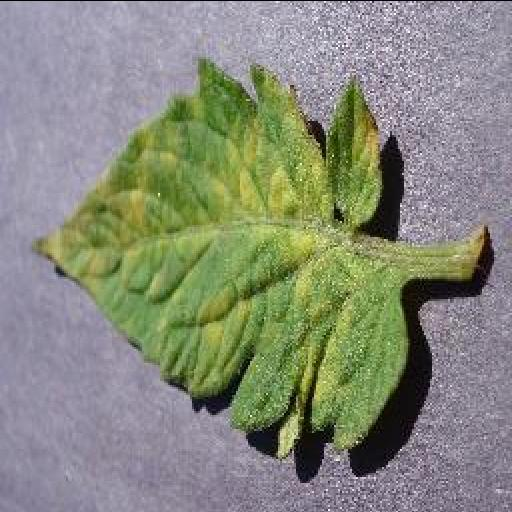disease_tomato: (34, 50, 412, 456)
